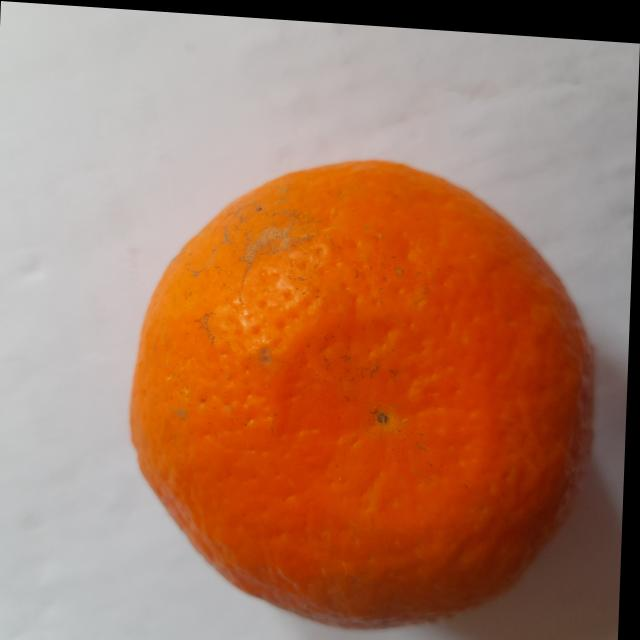Cam: (121, 131, 614, 640)
